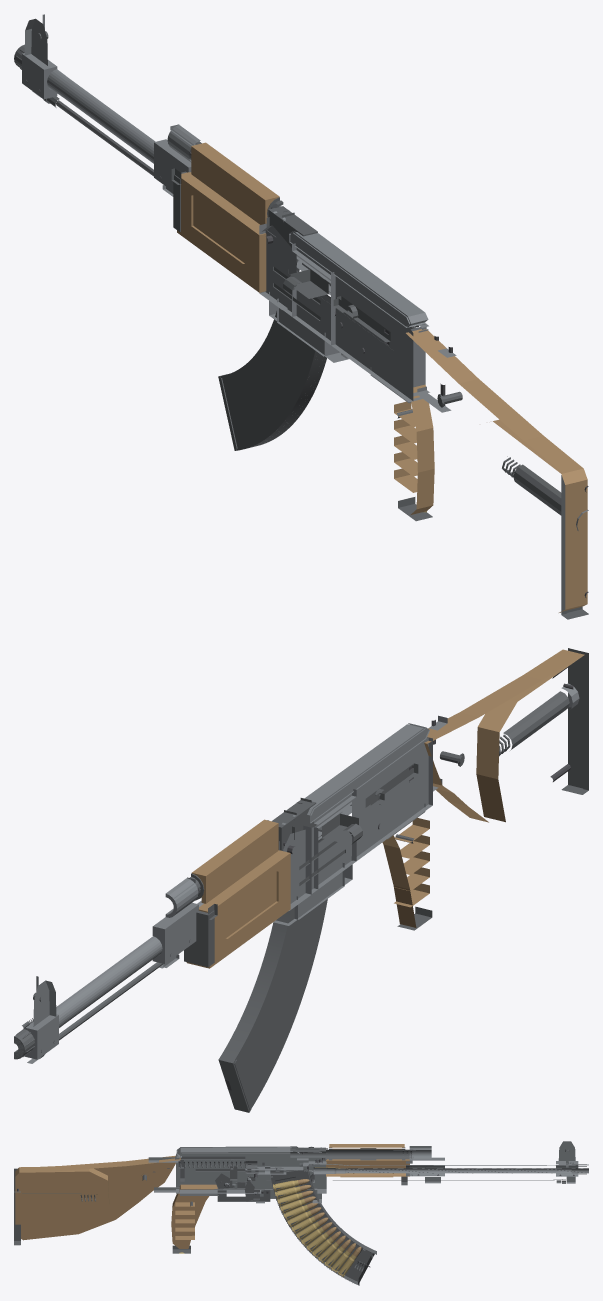
The model's file is ak47_cutaway.glb.
3 views of the same model, one above another, from view 1: azimuth 30°, elevation 25°; view 2: azimuth 150°, elevation 25°; view 3: azimuth 270°, elevation 25° (orthographic). The views are drawn at different scales.
Parts seen in each view (by area): view 1: buttstock, lower_handguard, receiver_wall_right_rear, upper_handguard, barrel, dust_cover, pistol_grip, receiver_wall_right_front, dust_cover_skirt_right, buttstock_swell, receiver_wall_right_below_port, gas_block (+6 smaller); view 2: lower_handguard, receiver_wall_right_rear, upper_handguard, buttstock, buttstock_swell, barrel, buttplate, dust_cover, gas_block, dust_cover_skirt_right, receiver_wall_right_front, pistol_grip (+13 smaller); view 3: buttstock, barrel, receiver_wall_right_rear, pistol_grip, lower_handguard, gas_tube, carrier_body, dust_cover, upper_handguard, receiver_bottom_rear, gas_block, rear_sight_block (+12 smaller).
Part boxes in pixels (x1=…): buttstock: x1=406, y1=329, x2=587, y2=612; lower_handguard: x1=177, y1=172, x2=266, y2=292; receiver_wall_right_rear: x1=331, y1=272, x2=413, y2=402; upper_handguard: x1=191, y1=142, x2=279, y2=224; barrel: x1=47, y1=69, x2=155, y2=163; dust_cover: x1=289, y1=231, x2=428, y2=327; pistol_grip: x1=411, y1=384, x2=434, y2=514; receiver_wall_right_front: x1=261, y1=225, x2=296, y2=316; dust_cover_skirt_right: x1=289, y1=231, x2=411, y2=327; buttstock_swell: x1=493, y1=419, x2=587, y2=612; receiver_wall_right_below_port: x1=292, y1=289, x2=330, y2=344; gas_block: x1=154, y1=139, x2=191, y2=191; lower_handguard: x1=186, y1=850, x2=290, y2=968; receiver_wall_right_rear: x1=352, y1=737, x2=432, y2=860; upper_handguard: x1=192, y1=819, x2=278, y2=903; buttstock: x1=424, y1=649, x2=582, y2=822; buttstock_swell: x1=476, y1=654, x2=584, y2=822; barrel: x1=14, y1=900, x2=203, y2=1058; buttplate: x1=562, y1=648, x2=588, y2=794; dust_cover: x1=304, y1=723, x2=429, y2=815; gas_block: x1=152, y1=902, x2=198, y2=963; dust_cover_skirt_right: x1=310, y1=727, x2=429, y2=823; receiver_wall_right_front: x1=283, y1=827, x2=318, y2=903; pistol_grip: x1=382, y1=835, x2=416, y2=927; buttstock: x1=15, y1=1155, x2=180, y2=1240; barrel: x1=314, y1=1164, x2=588, y2=1174; receiver_wall_right_rear: x1=176, y1=1153, x2=255, y2=1186; pistol_grip: x1=171, y1=1184, x2=217, y2=1248; lower_handguard: x1=326, y1=1159, x2=409, y2=1176; gas_tube: x1=326, y1=1149, x2=413, y2=1159; carrier_body: x1=245, y1=1153, x2=303, y2=1170; dust_cover: x1=176, y1=1146, x2=300, y2=1157; upper_handguard: x1=329, y1=1144, x2=404, y2=1149; receiver_bottom_rear: x1=176, y1=1187, x2=261, y2=1193; gas_block: x1=409, y1=1157, x2=444, y2=1176; rear_sight_block: x1=290, y1=1147, x2=325, y2=1157.
Size of the model in its own units: 0.0391 by 0.2407 by 0.868.
